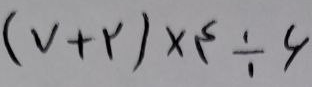character: (232, 31, 268, 79), (194, 20, 224, 72), (283, 23, 308, 74), (102, 22, 132, 64), (3, 11, 23, 73), (30, 22, 65, 55), (165, 26, 193, 65), (132, 12, 149, 76), (67, 28, 97, 64)
